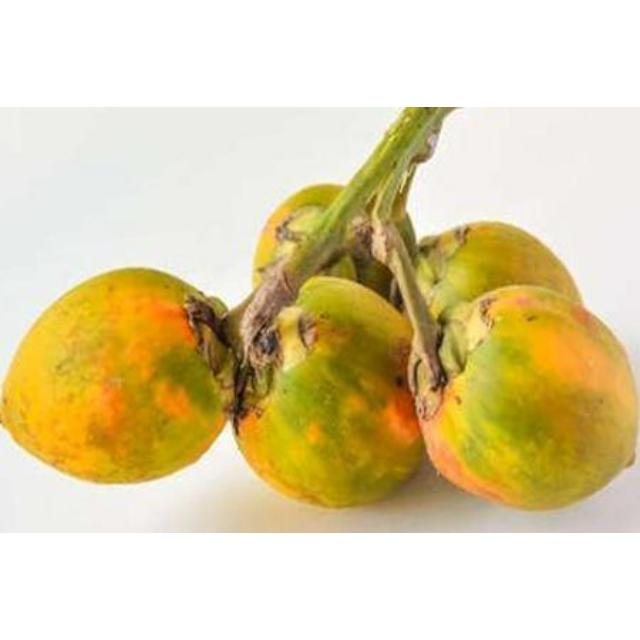good: (0, 268, 232, 487), (421, 285, 639, 514), (233, 276, 425, 512)
